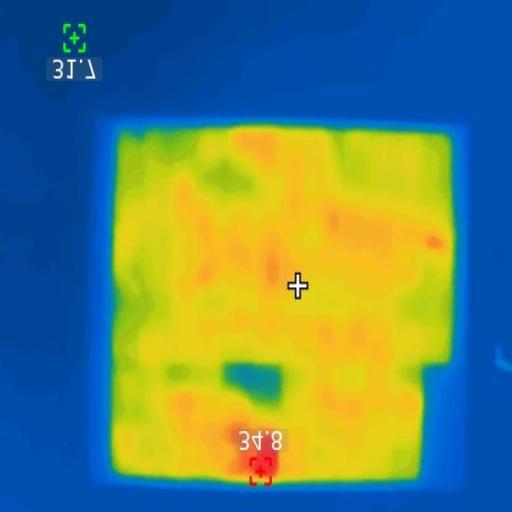hotspot: (227, 420, 286, 480), (427, 229, 446, 254)
